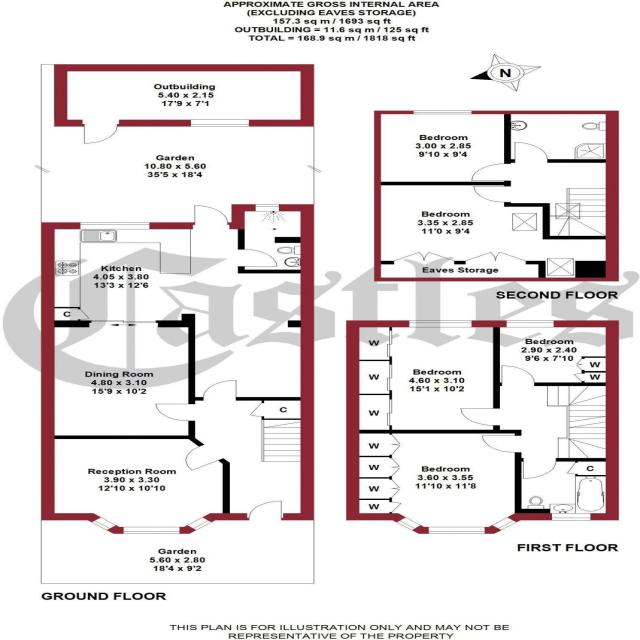DOOR: (184, 443, 225, 472), (77, 119, 122, 145), (190, 204, 232, 229), (199, 378, 239, 401), (155, 402, 196, 422), (513, 141, 550, 163), (239, 248, 278, 268), (470, 163, 511, 182), (459, 407, 500, 426), (481, 434, 522, 453), (499, 365, 536, 386), (521, 458, 557, 479), (245, 500, 282, 520), (472, 185, 511, 203)
ROOM: (40, 203, 315, 439), (373, 181, 620, 281), (40, 435, 231, 535), (391, 430, 522, 534), (391, 320, 500, 434), (374, 110, 512, 186), (493, 320, 619, 386)
WINDOW: (78, 222, 153, 230), (188, 119, 252, 128), (119, 526, 182, 535), (407, 320, 473, 328), (88, 516, 119, 531), (184, 516, 213, 532), (490, 516, 518, 532), (425, 527, 486, 534), (394, 516, 422, 531), (505, 320, 555, 327), (549, 513, 592, 521), (412, 110, 473, 115), (252, 204, 281, 212)
